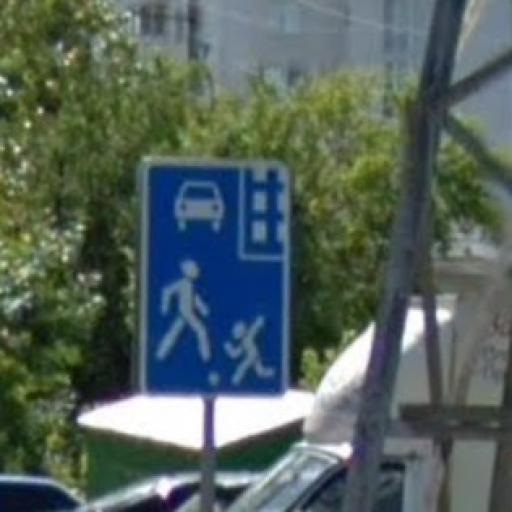traffic_sign: (140, 157, 291, 400)
